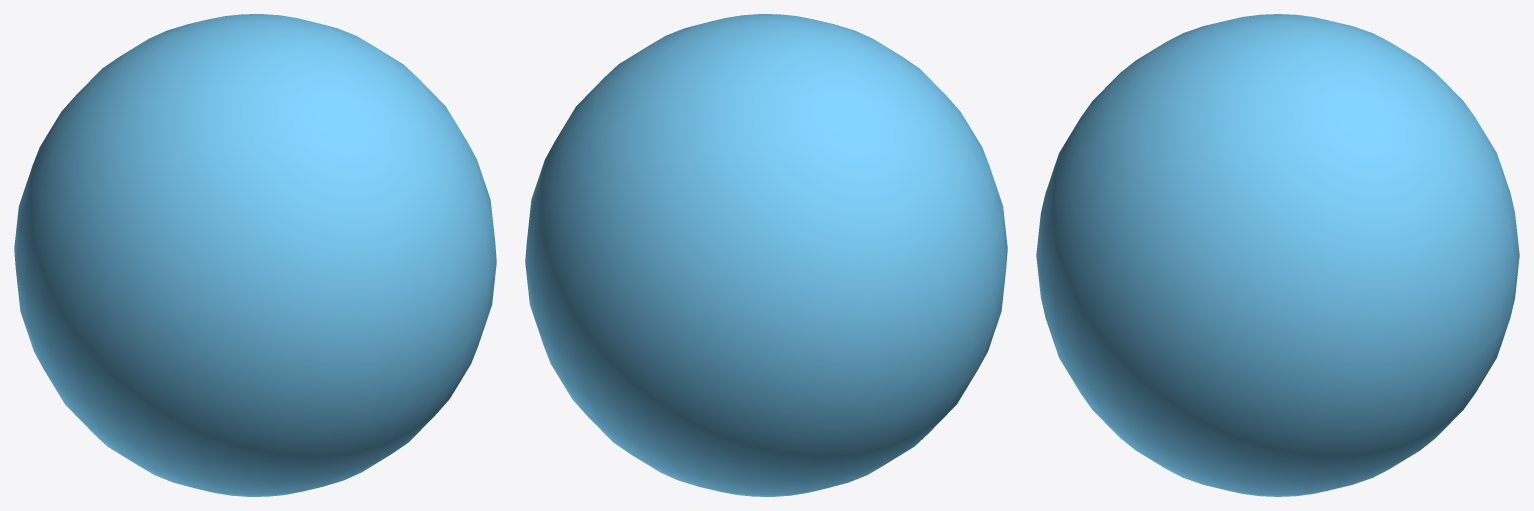
Rendered from Medieval.fbx_Scene_Scene_Collection.fbx.
3 renders of one model, left to right at view 1: azimuth 30°, elevation 25°; view 2: azimuth 150°, elevation 25°; view 3: azimuth 270°, elevation 25°, orthographic.
Parts seen in each view (by area): view 1: Sky; view 2: Sky; view 3: Sky.
Part boxes in pixels (box(x1,y1,x2,y2)): Sky: box(14, 14, 496, 496); Sky: box(525, 14, 1007, 496); Sky: box(1036, 14, 1519, 496).
Bounding box in the file's own units: 67889 × 67889 × 67889.
